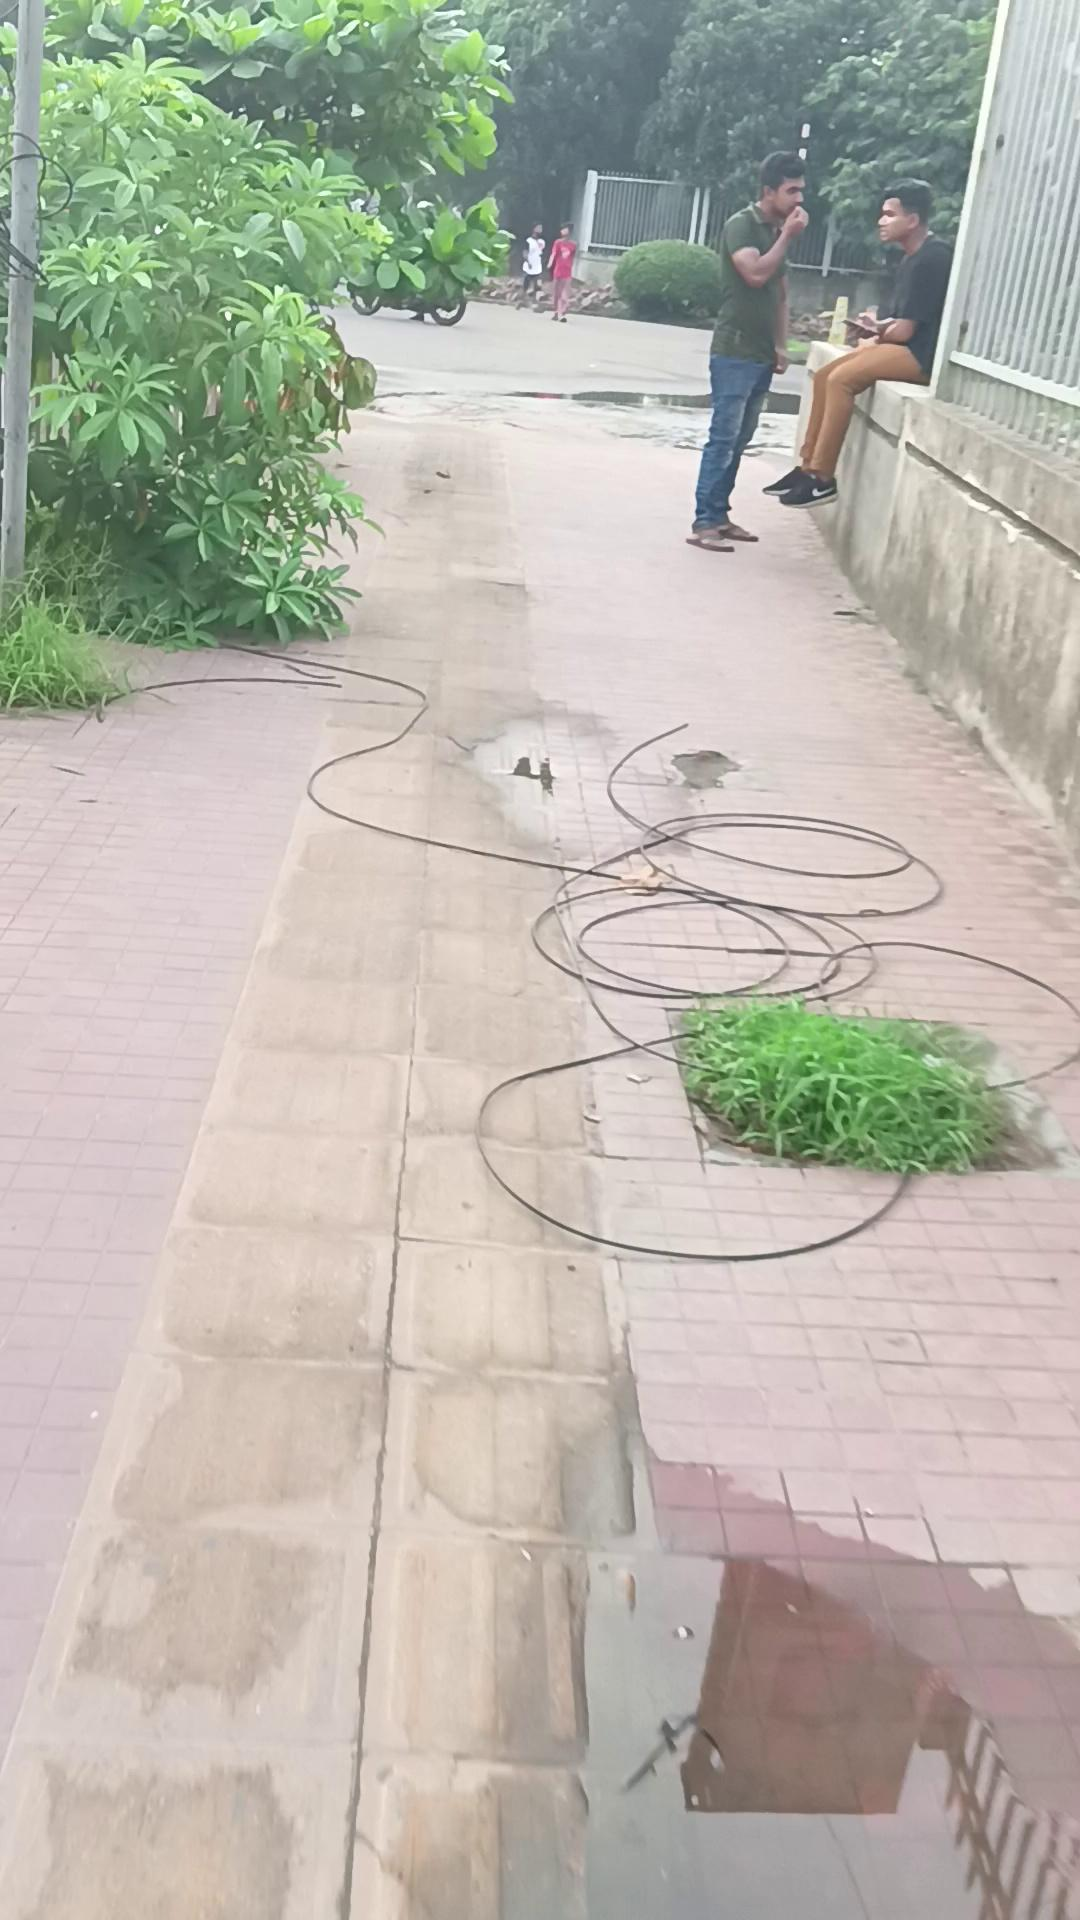Light-pole: (342, 170, 468, 314)
Muddy road: (762, 177, 953, 508), (684, 150, 810, 551), (546, 224, 576, 320), (516, 223, 546, 311)
Obstacle: (0, 1, 46, 625)
Potted-plant: (3, 386, 1077, 1913)
Railroad-crossing: (538, 1499, 1080, 1920), (473, 748, 597, 806)
